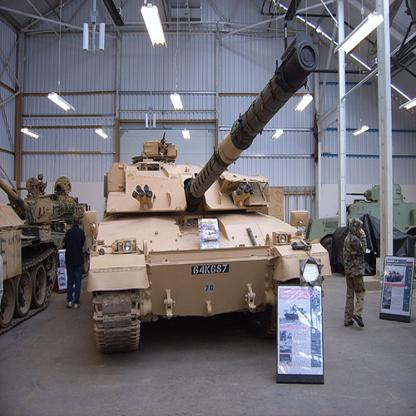Tank: (90, 39, 339, 369)
